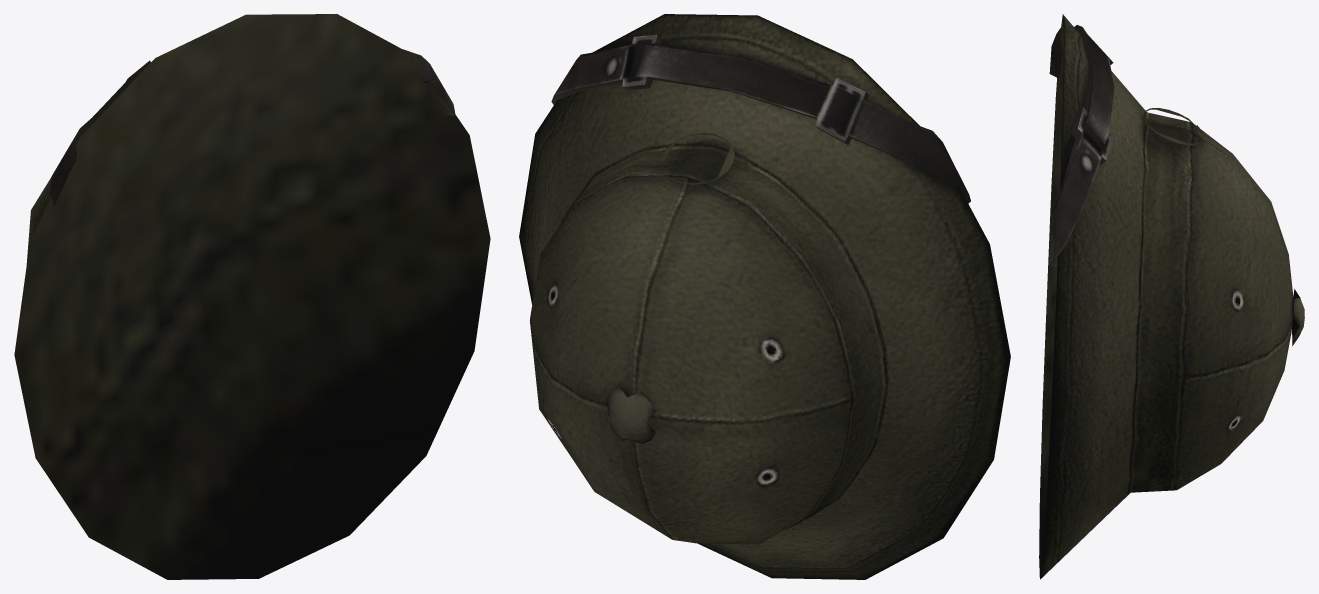
Rendered from pith_worn.glb.
3 renders of one model, left to right at view 1: azimuth 30°, elevation 25°; view 2: azimuth 150°, elevation 25°; view 3: azimuth 270°, elevation 25°, orthographic. The views are drawn at different scales.
Parts seen in each view (by area): view 1: pith_worn; view 2: pith_worn; view 3: pith_worn.
Boxes of the visible parts, x1,y1,x2,y2 form: pith_worn: [14, 14, 490, 579]; pith_worn: [519, 14, 1010, 579]; pith_worn: [1039, 14, 1304, 579].
Size of the model in its own units: 0.2786 by 0.31 by 0.1432.
1 material, 1 textured.
